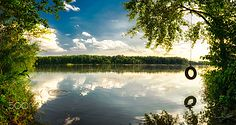sea_river: (35, 71, 200, 115)
sky_cloud: (26, 13, 136, 53)
